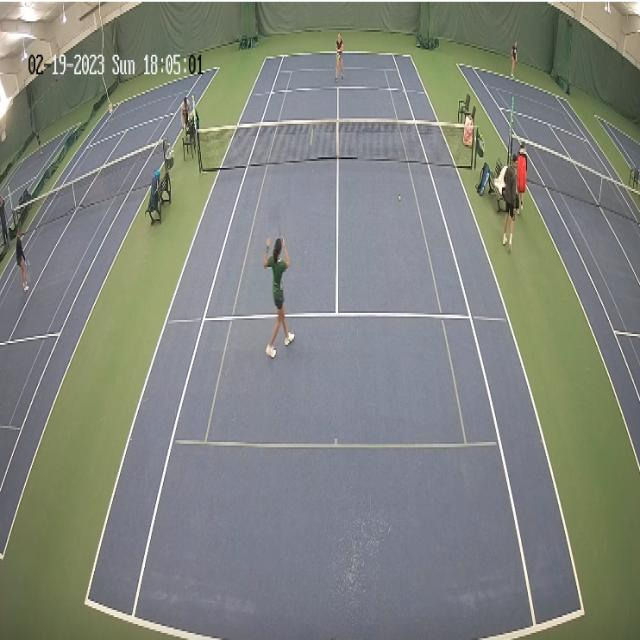ball: (310, 128, 314, 146), (398, 194, 401, 201)
